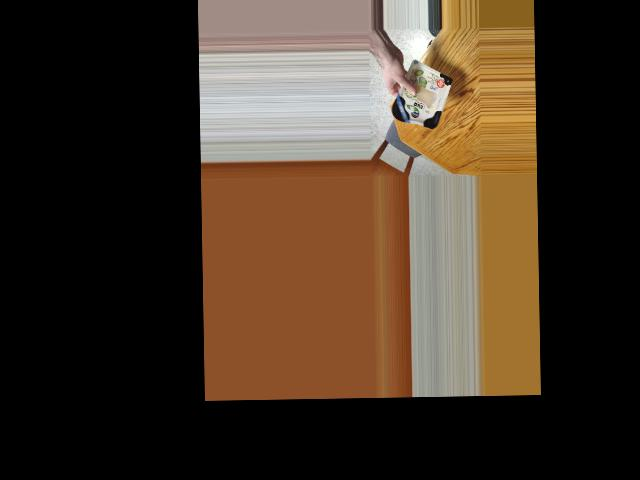cheese: (393, 70, 450, 132)
